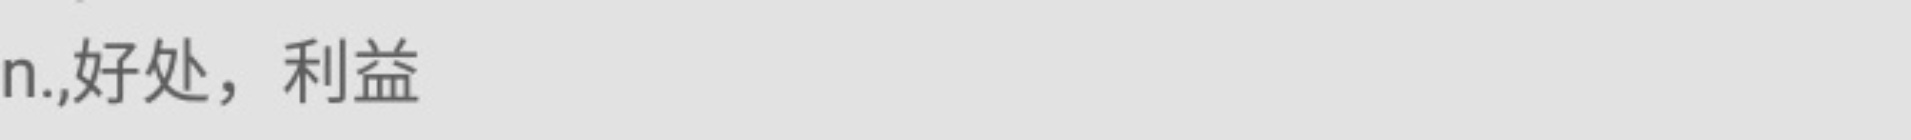TextView: (1, 1, 1910, 139)
